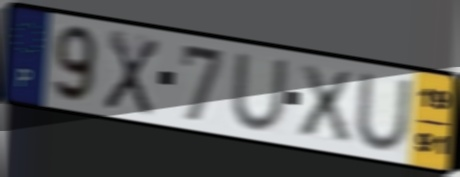7: (179, 40, 226, 125)
9: (49, 23, 100, 106)
U: (229, 51, 291, 135), (353, 71, 415, 155)
X: (101, 26, 162, 119), (296, 61, 355, 145)
